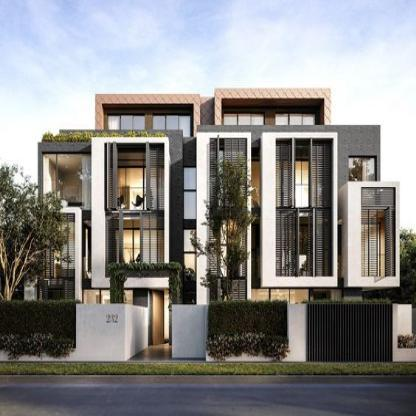Balcony: (339, 181, 399, 210)
Building Outline: (0, 87, 416, 362)
Door: (152, 290, 169, 344)
Facade: (24, 87, 401, 362)
Floor Slab: (263, 277, 337, 287), (210, 210, 332, 216), (44, 210, 164, 216), (339, 205, 399, 214), (92, 278, 170, 284), (349, 277, 398, 284), (211, 277, 247, 286)
Glass Wall: (277, 225, 329, 276), (44, 155, 91, 210), (109, 230, 164, 275), (276, 162, 329, 208), (110, 168, 164, 210), (211, 219, 247, 278), (211, 286, 247, 344), (39, 222, 75, 278), (39, 288, 75, 343), (271, 289, 308, 342), (211, 152, 247, 204), (313, 289, 340, 341), (360, 226, 380, 277), (251, 289, 268, 342), (117, 290, 133, 342), (84, 290, 100, 342), (101, 290, 116, 342), (84, 220, 92, 279)
Window: (184, 253, 196, 344), (224, 113, 264, 137), (275, 114, 316, 136), (153, 114, 191, 137), (349, 157, 376, 187), (109, 115, 145, 137), (252, 224, 261, 283), (252, 162, 261, 216), (109, 220, 164, 228), (184, 191, 196, 219), (110, 160, 164, 165), (184, 229, 196, 251), (184, 168, 196, 189)
